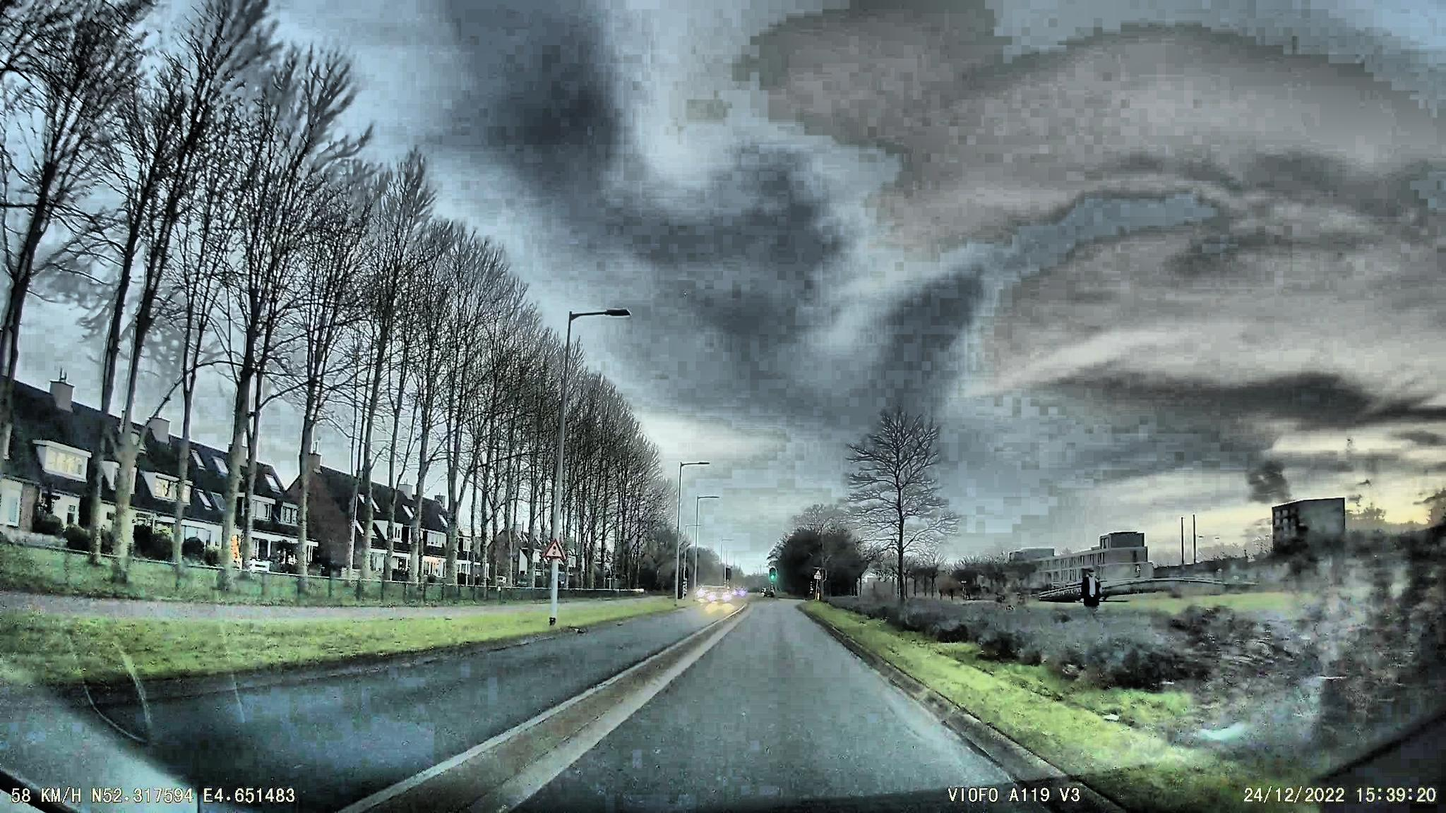Roads: (141, 600, 1129, 813)
